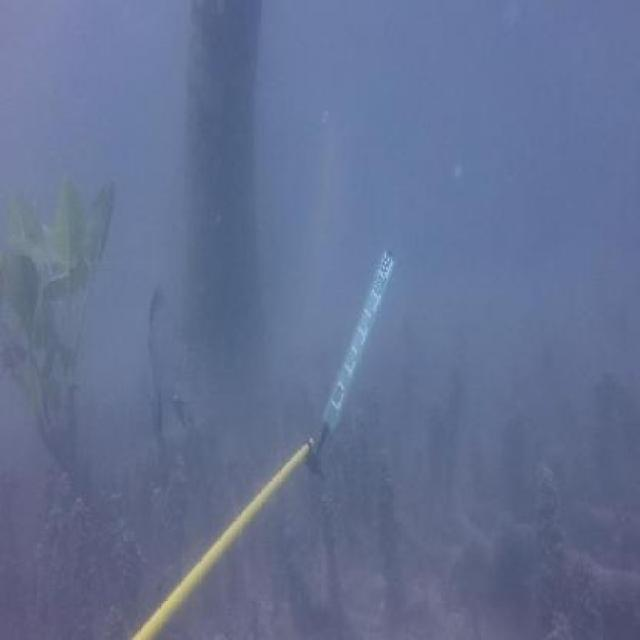acanthopagrus_palmaris: (146, 274, 194, 449)
